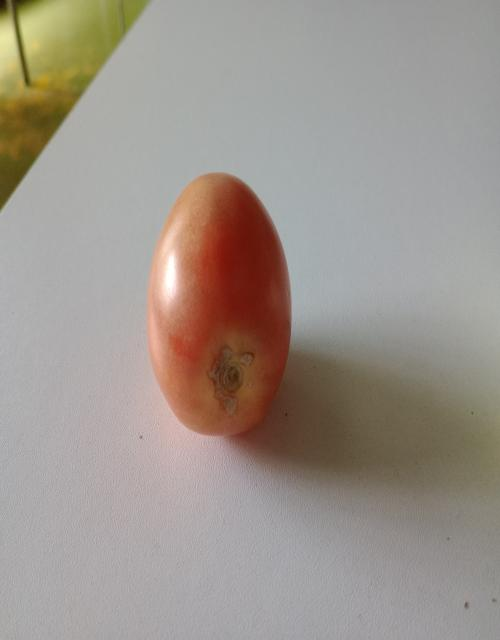Tomate: (123, 166, 312, 469)
